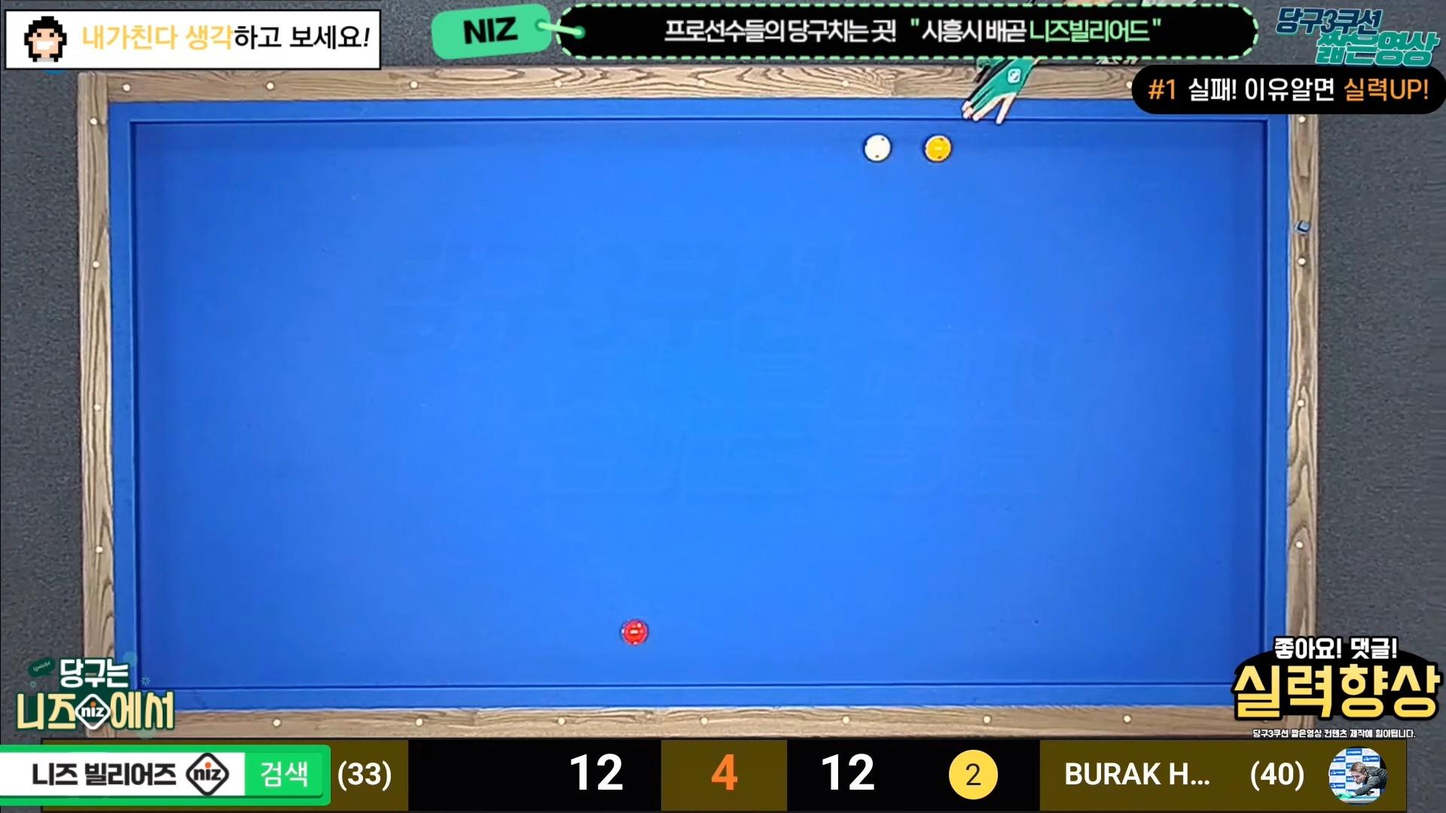Red: (621, 620, 653, 646)
White: (863, 134, 894, 163)
Yellow: (924, 134, 957, 163)
